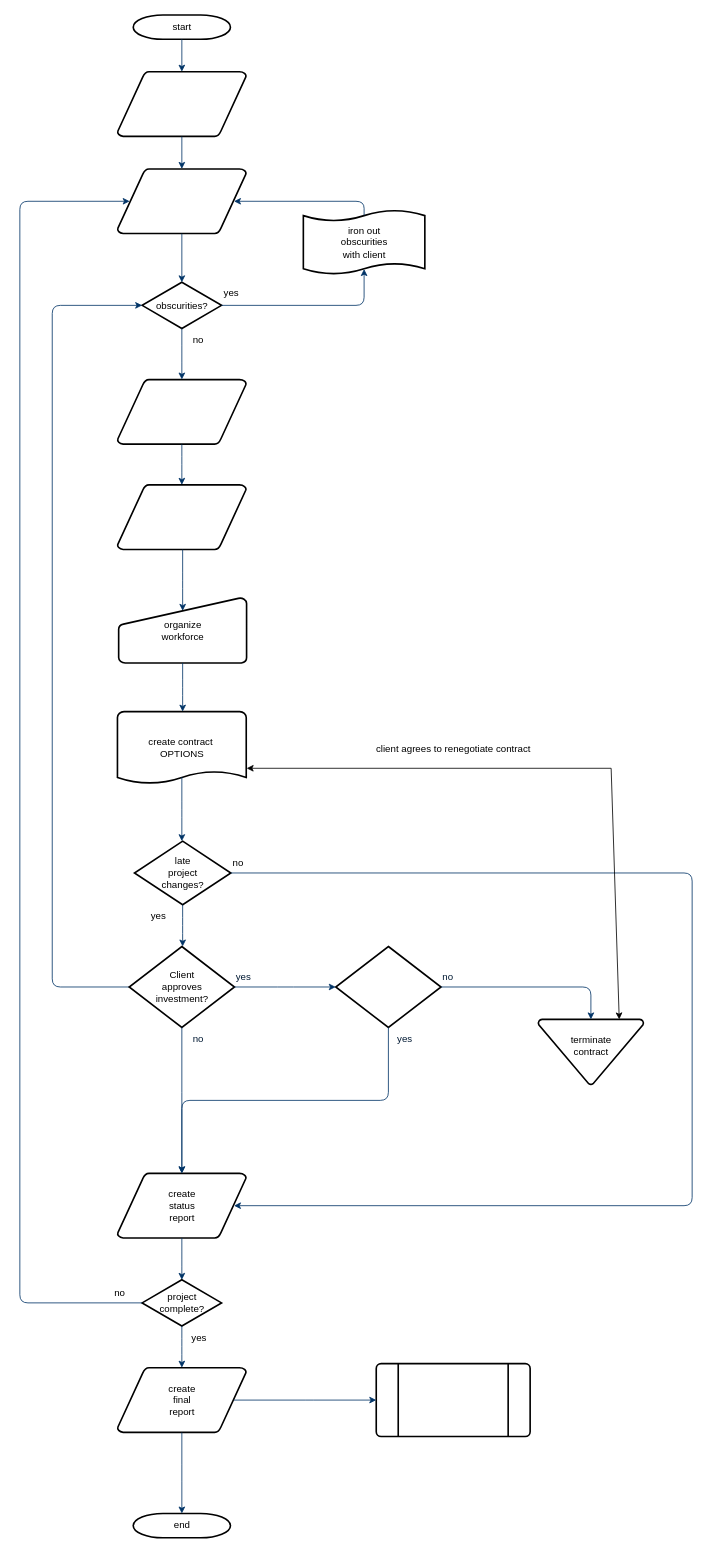
Some shapes in this 713 by 1552 pixel diagram are drawn without their labels. Each missing label, with the centre of its shape:
"agreement?" goes at (388,986).
"analyse project documentation" goes at (181,103).
"check for obscurities" goes at (181,201).
"client feedback" goes at (181,517).
"create scope of work" goes at (181,411).
"Final Project" goes at (453,1399).
